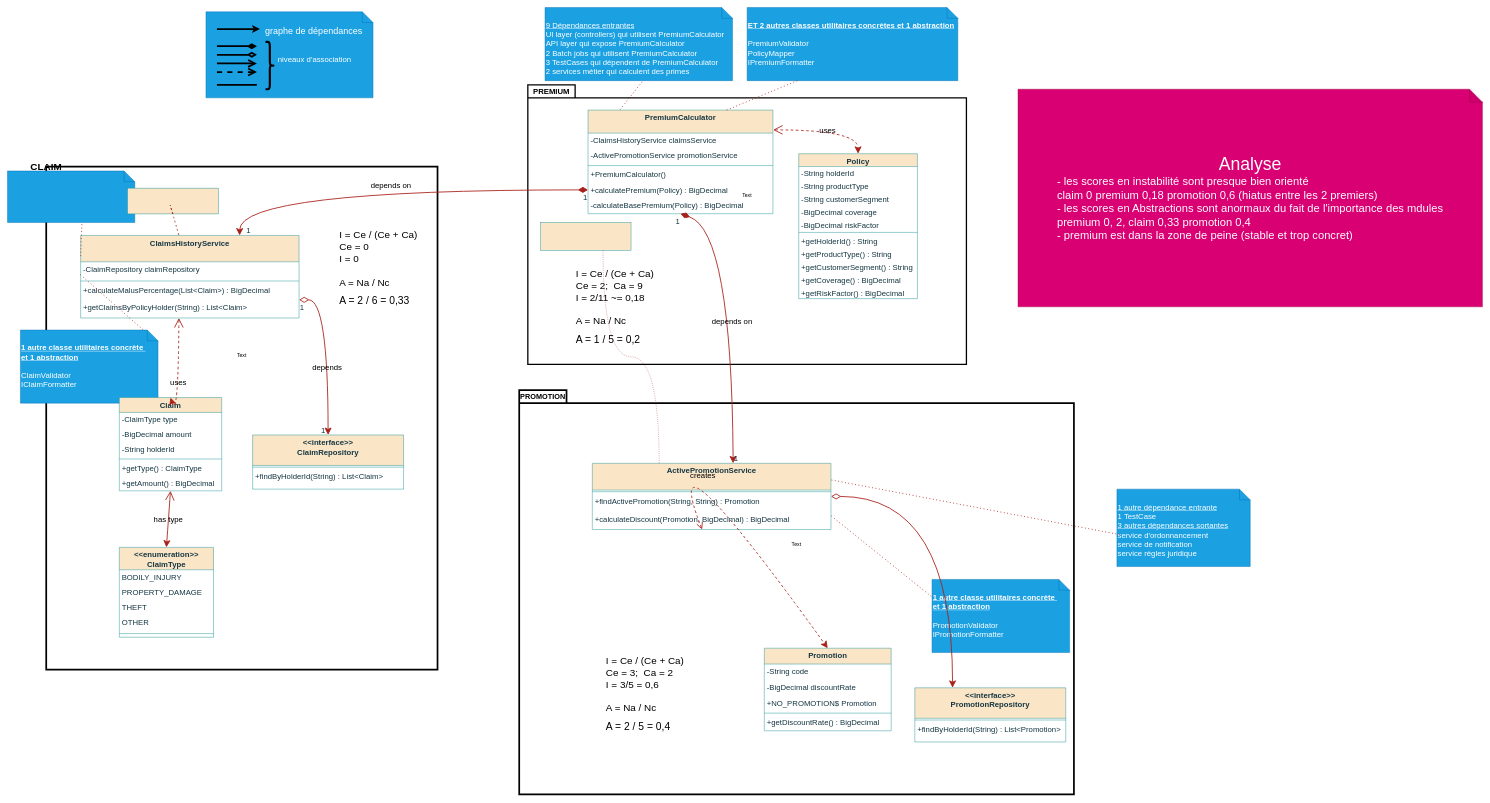
Image size: 1490x803. Some labels were removed from this diagram. Each missing label, with the centre of its shape:
"2 autres dépendances entrantes 1 TestCase 1 Service de Report" belongs at pixel 71 196.
"Change chaque semaine (promos, campagnes)" belongs at pixel 585 236.
"Change tous les 3 mois (nouvelles lois, règles)" belongs at pixel 172 201.
